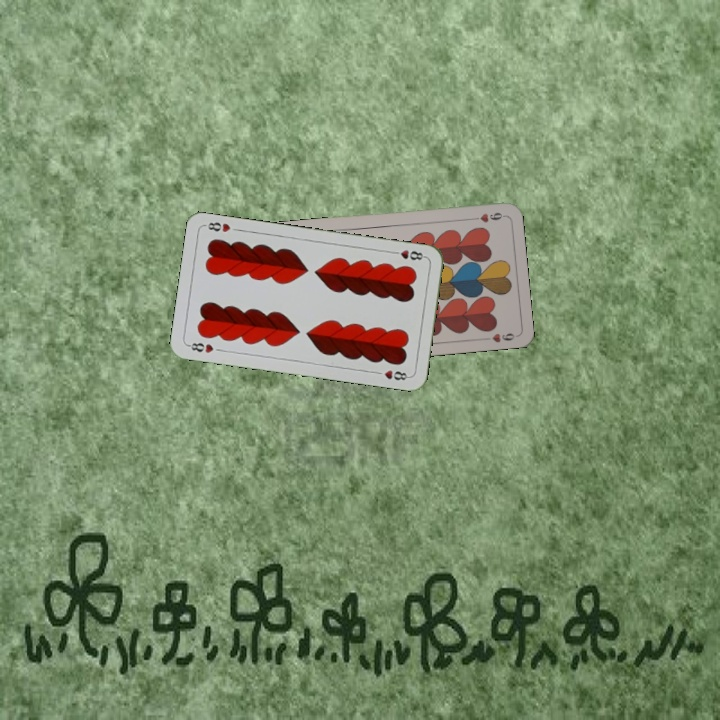H8: (388, 246, 428, 263), (184, 339, 216, 356)
H9: (466, 208, 507, 225)
